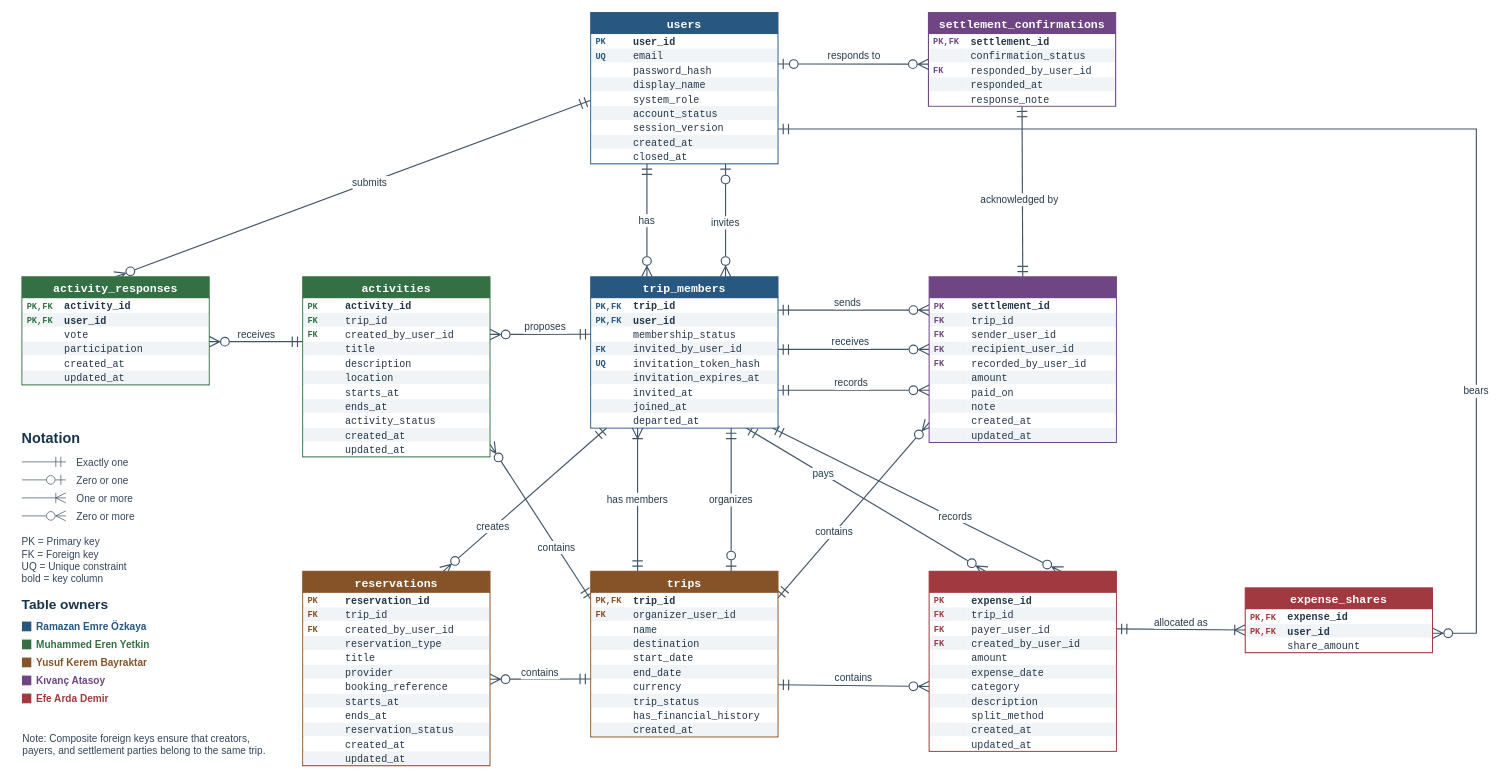
This 1503x779 diagram has some shape labels left out. The shapes that lost their labels are listed below. From the top down, each one's box as (x1, y1, x2, y2) in pixels, then its label:
(929, 276, 1116, 298): settlements
(929, 571, 1116, 593): expenses
